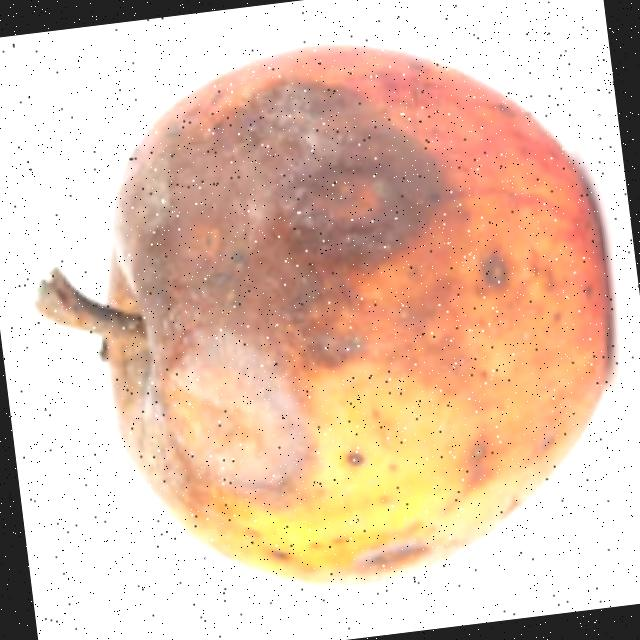Rotten: (55, 7, 640, 618)
